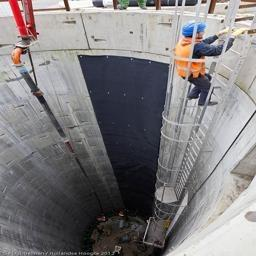hat: (181, 21, 205, 38)
vest: (174, 38, 210, 76)
